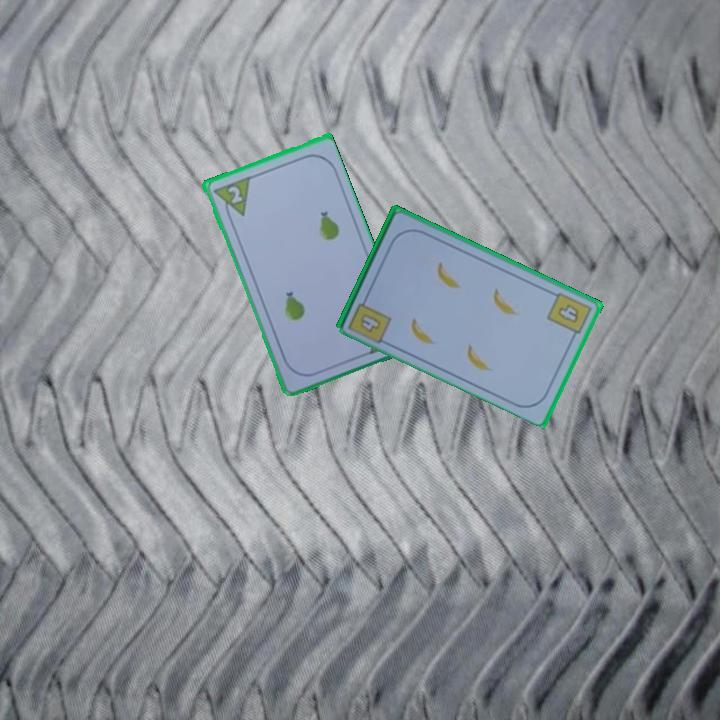2p: (224, 182, 245, 206)
4b: (543, 288, 594, 342), (357, 310, 384, 335)
